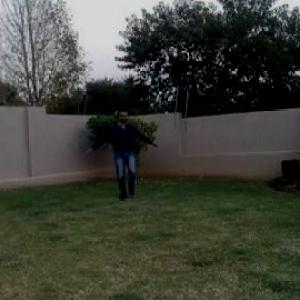land: (78, 83, 161, 217)
